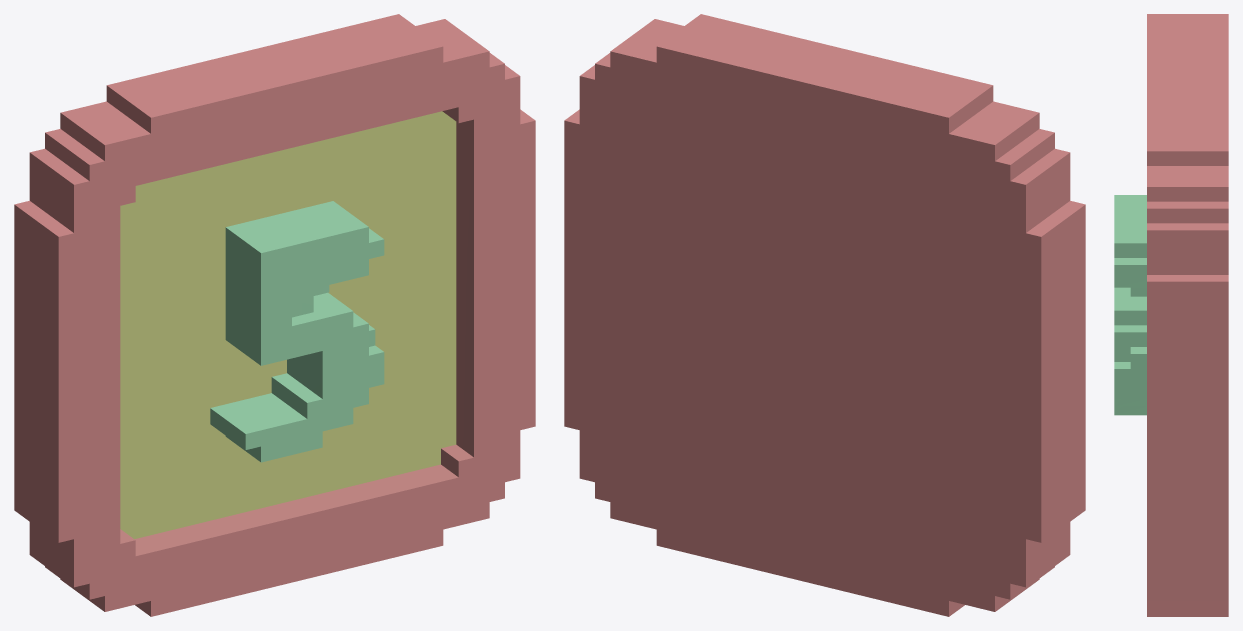
File: roll_5.fbx
3 views of the same model, side by side, from view 1: azimuth 30°, elevation 25°; view 2: azimuth 150°, elevation 25°; view 3: azimuth 270°, elevation 25° (orthographic). The views are drawn at different scales.
Parts seen in each view (by area): view 1: OUT; view 2: OUT; view 3: OUT.
Boxes of the visible parts, <box> form: OUT: <box>14,14,535,616</box>; OUT: <box>564,14,1085,616</box>; OUT: <box>1114,14,1228,616</box>.
Size of the model in its own units: 1.55 by 1.55 by 0.3502.
